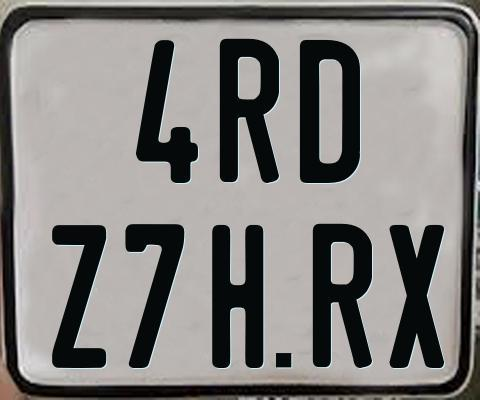4: (133, 37, 200, 183)
7: (125, 221, 184, 371)
D: (299, 39, 363, 186)
H: (210, 225, 261, 369)
R: (217, 36, 281, 182), (312, 224, 374, 368)
X: (389, 223, 448, 368)
Z: (51, 222, 105, 368)
